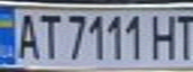1: (103, 11, 127, 61), (124, 11, 148, 61), (84, 11, 106, 61)
7: (63, 11, 87, 61)
A: (9, 10, 42, 61)
H: (148, 11, 181, 61)
T: (33, 10, 63, 61), (169, 11, 193, 61)
